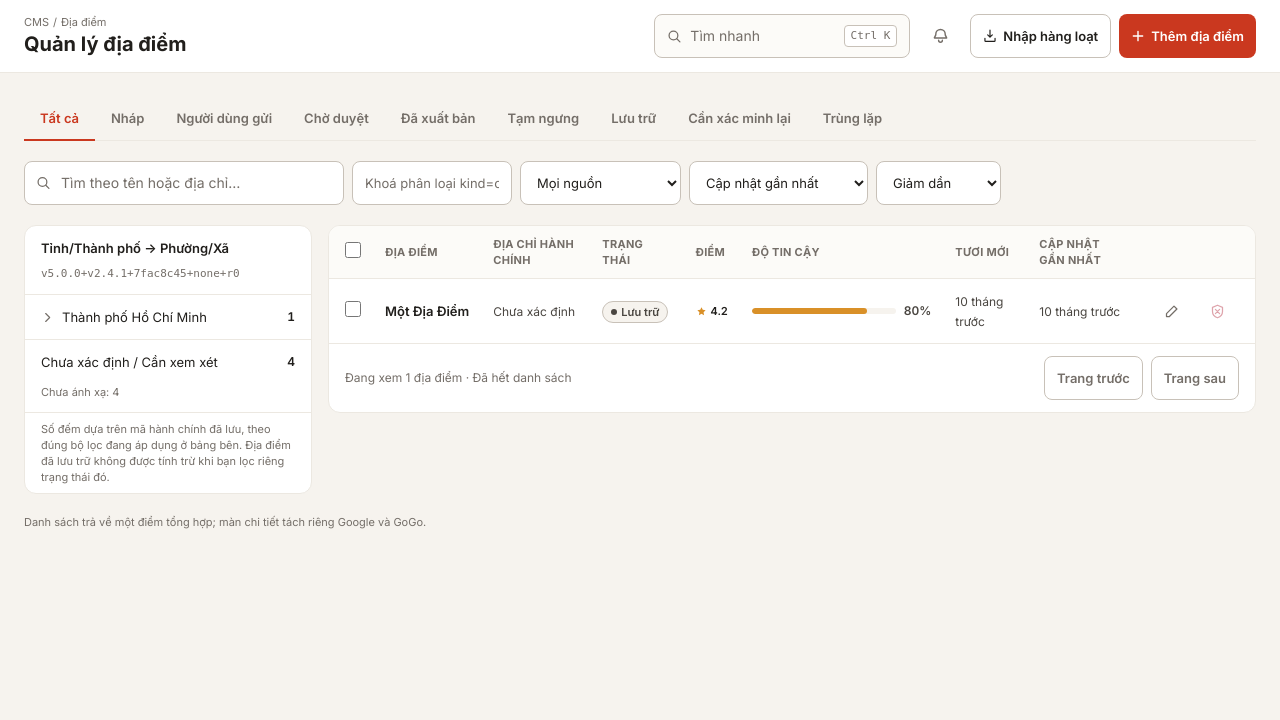
bulk place workflow › from archived offers exactly the legal transitions
What coordinates should you click on to do the following:
click the checkbox named "Một Địa Điểm"
I would click on:
 (353, 308)
Its box is [345,300,361,316].
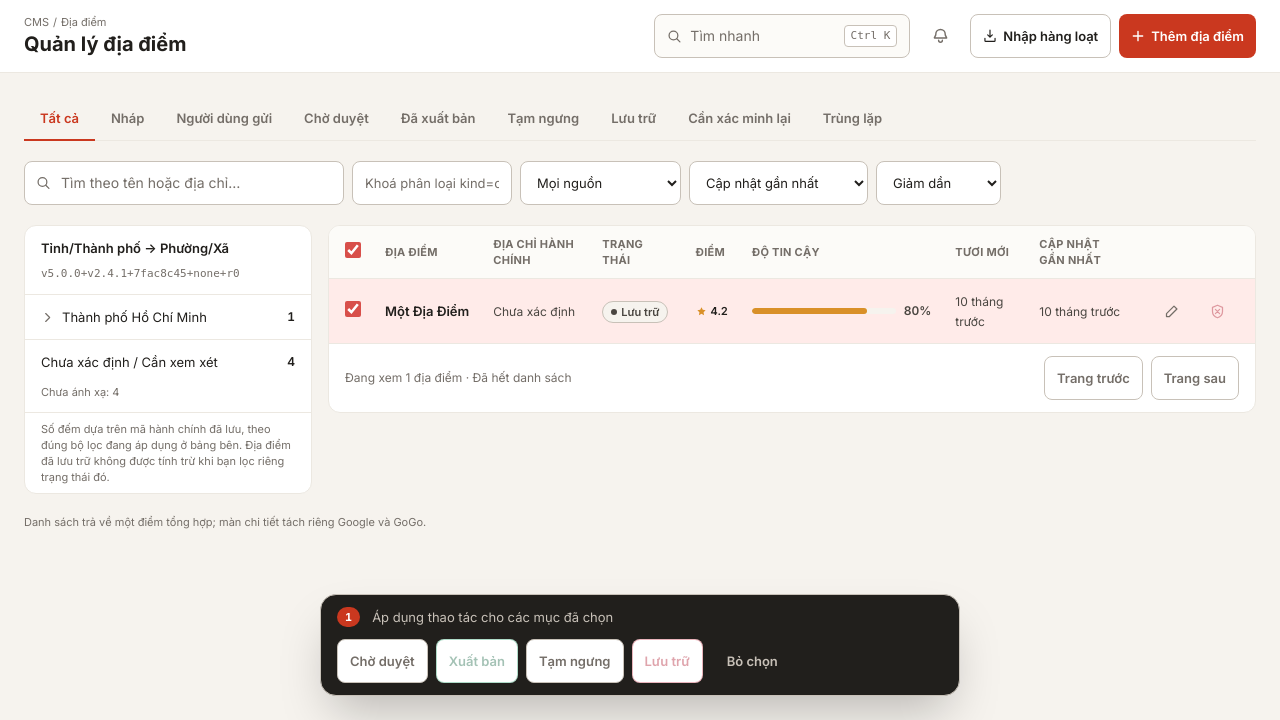
Result: the button "Xuất bản" is disabled at [436,639,518,683]
Result: the button "Chờ duyệt" is disabled at [337,639,428,683]
Result: the button "Tạm ngưng" is disabled at [526,639,624,683]
